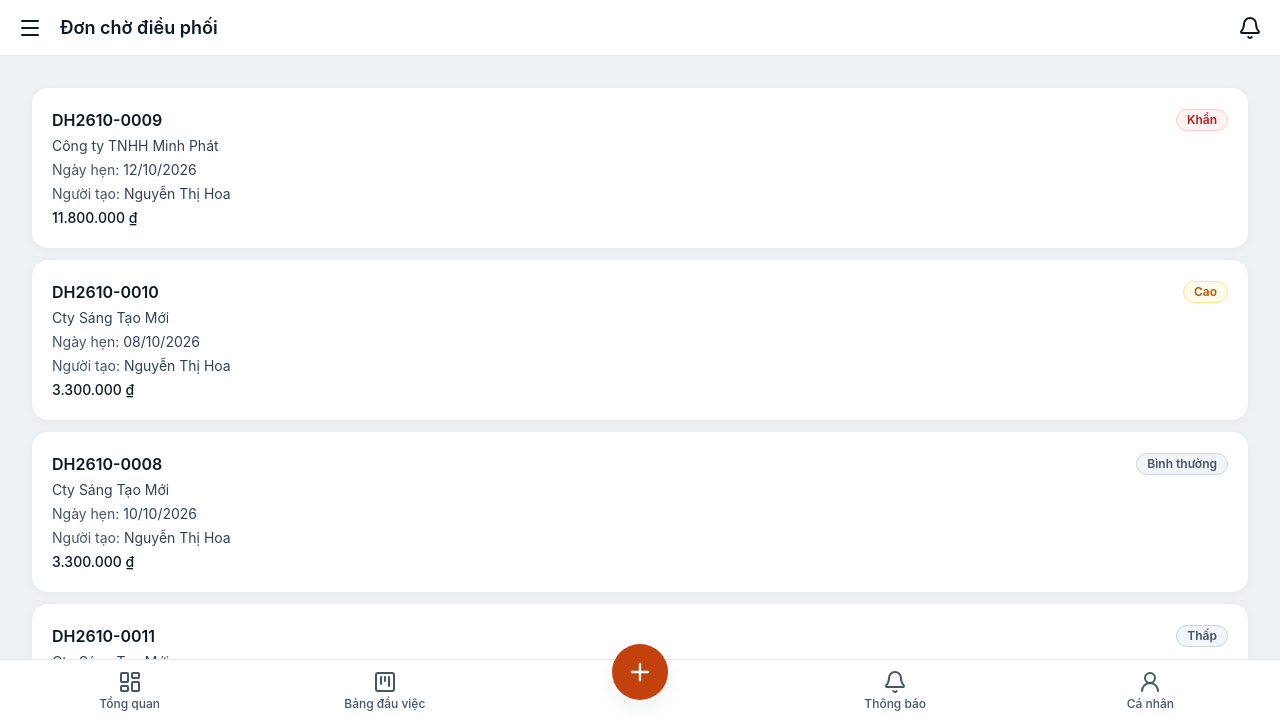
Test case: Hàng đợi điều phối › AC-UI-026 mobile: bấm thẻ không hồi quy luồng mở panel tạo task
The image size is (1280, 720).
Check: the text "DH2610-0009" is shown, box [52,108,162,132]
Step 1. Click the button "DH2610-" → (640, 168), box [32,88,1248,248]
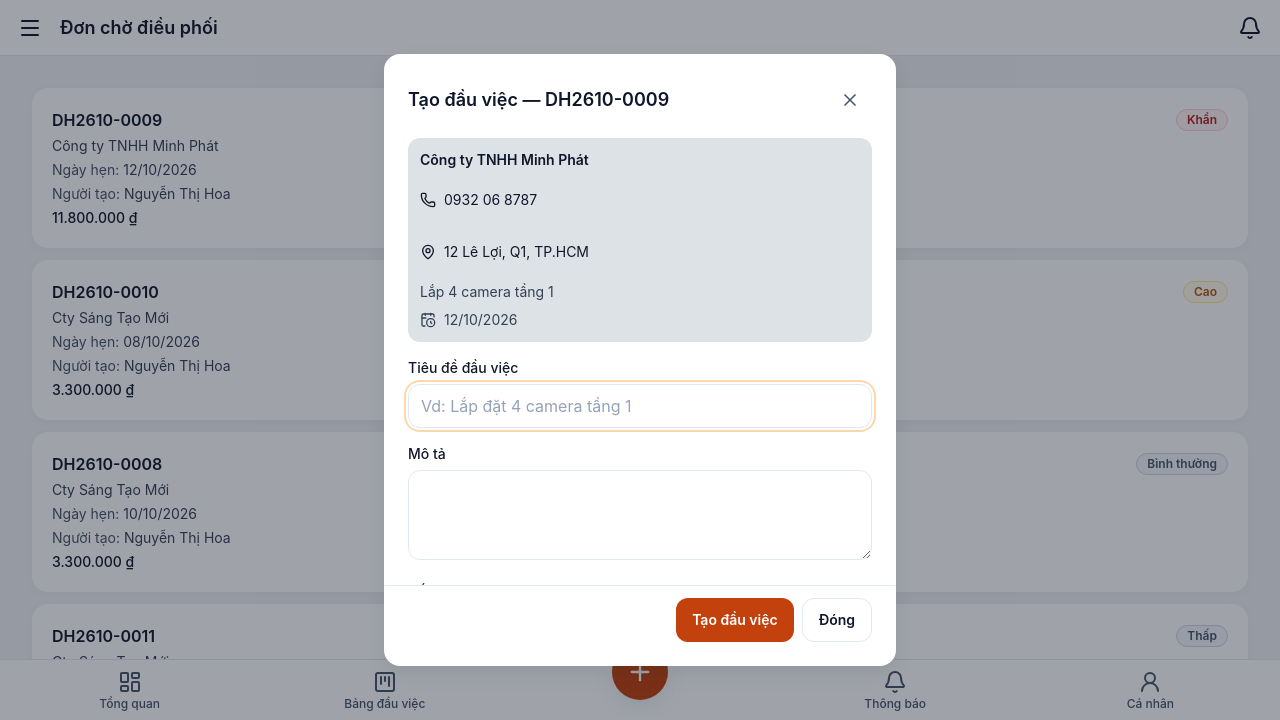
Check: the dialog "Tạo đầu việc — DH2610-0009" is shown
